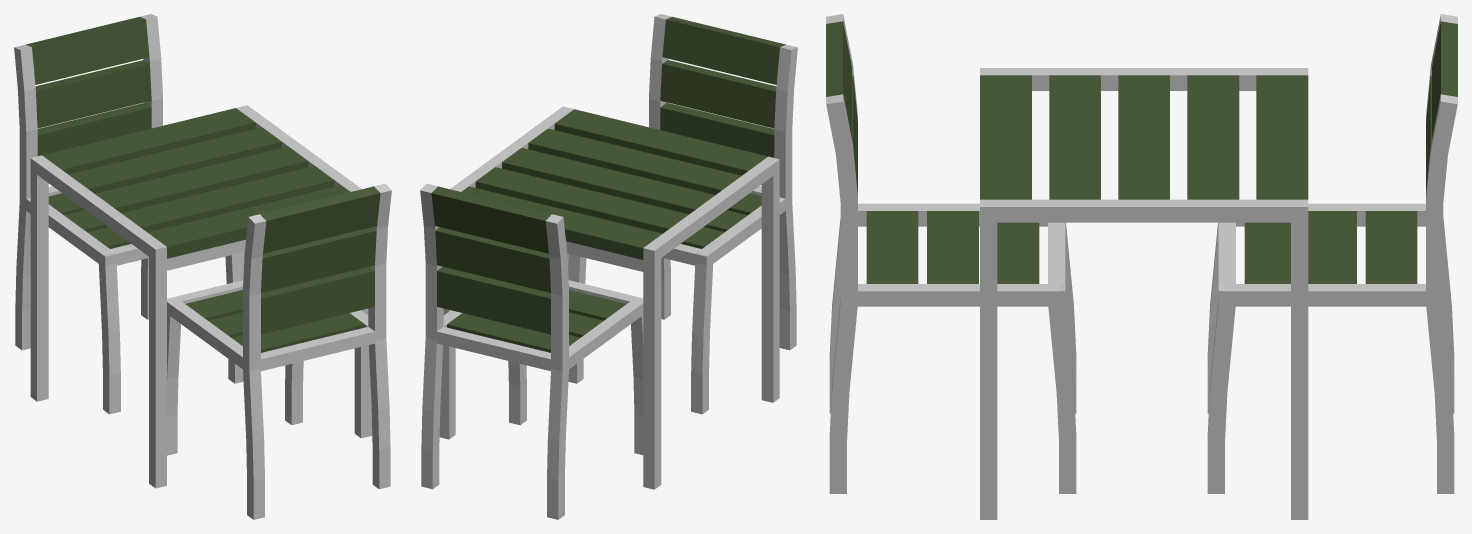
3 renders of one model, left to right at view 1: azimuth 30°, elevation 25°; view 2: azimuth 150°, elevation 25°; view 3: azimuth 270°, elevation 25°, orthographic. The views are drawn at different scales.
Parts seen in each view (by area): view 1: CT1; view 2: CT1; view 3: CT1.
Part boxes in pixels (bbox=[...]): CT1: bbox=[14, 14, 391, 519]; CT1: bbox=[420, 14, 797, 519]; CT1: bbox=[826, 14, 1457, 519].
Size of the model in its own units: 9.5 by 12.56 by 18.29.
